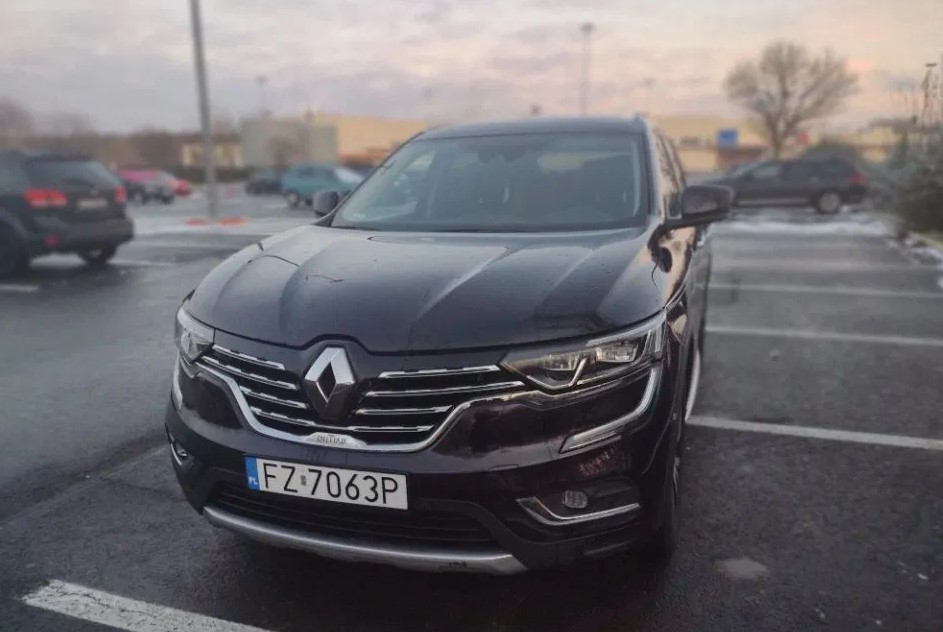number_plate: (233, 448, 422, 524)
